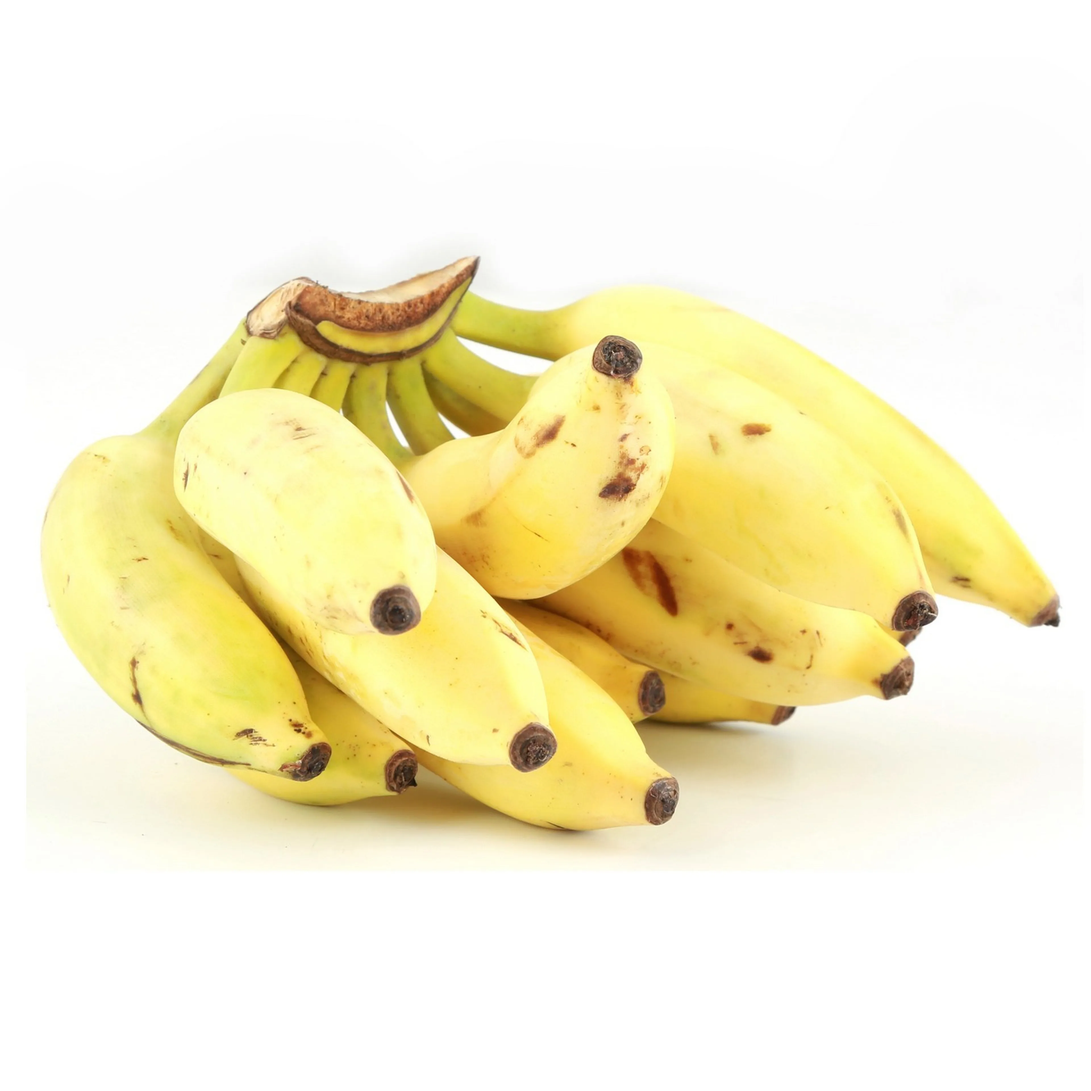banana: (33, 262, 1072, 830)
